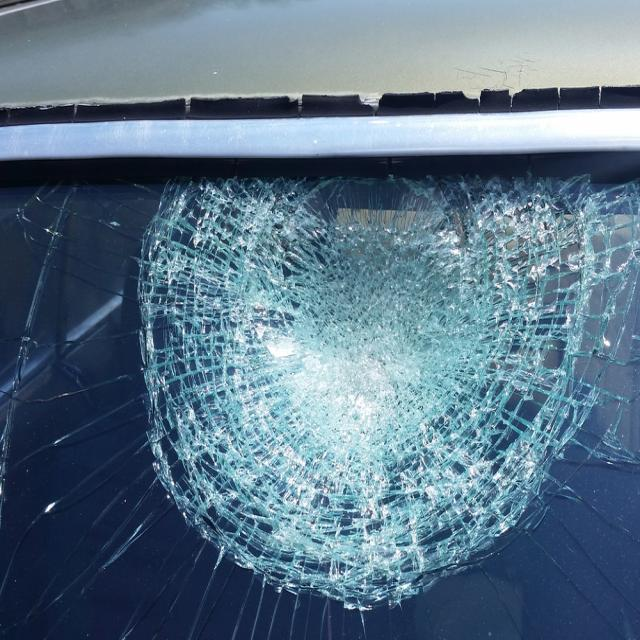glass shatter: (0, 161, 640, 640)
